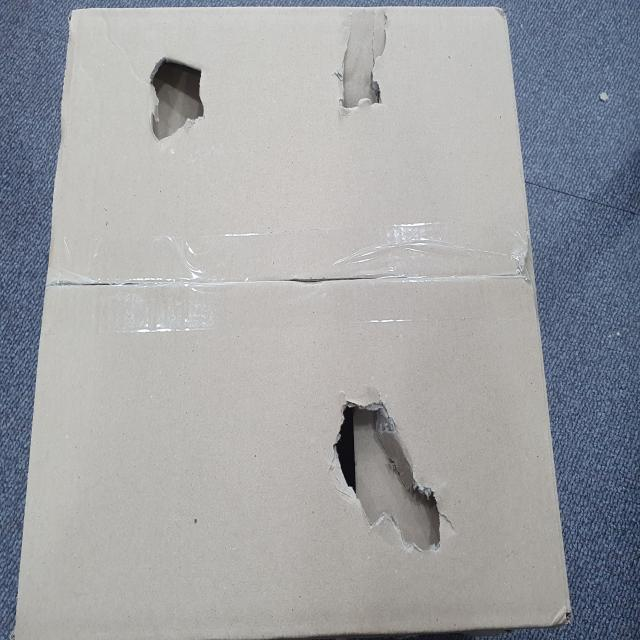hole: (324, 385, 458, 563), (335, 6, 391, 118), (142, 52, 207, 147)
